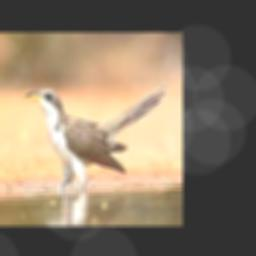Cuckoo: (25, 81, 166, 189)
